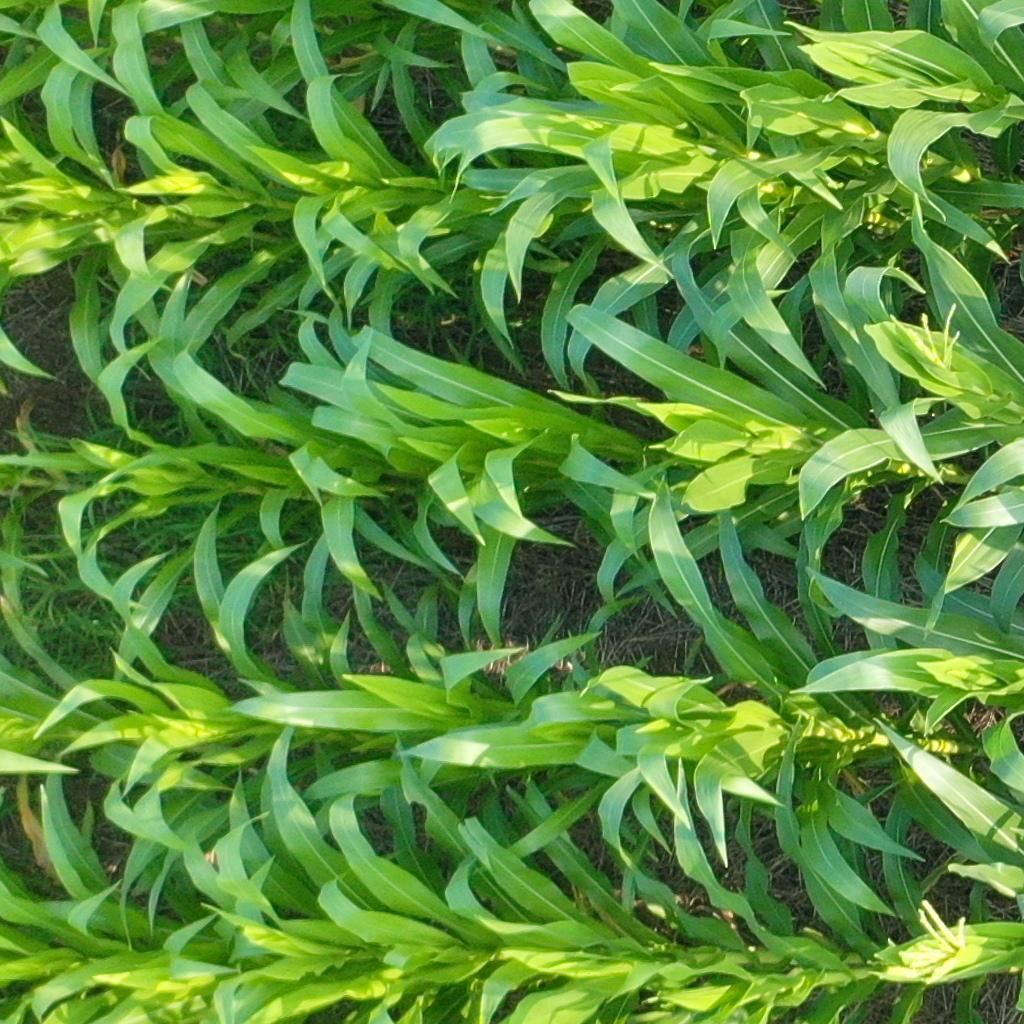Tassel: (895, 894, 976, 992), (881, 302, 965, 384)
